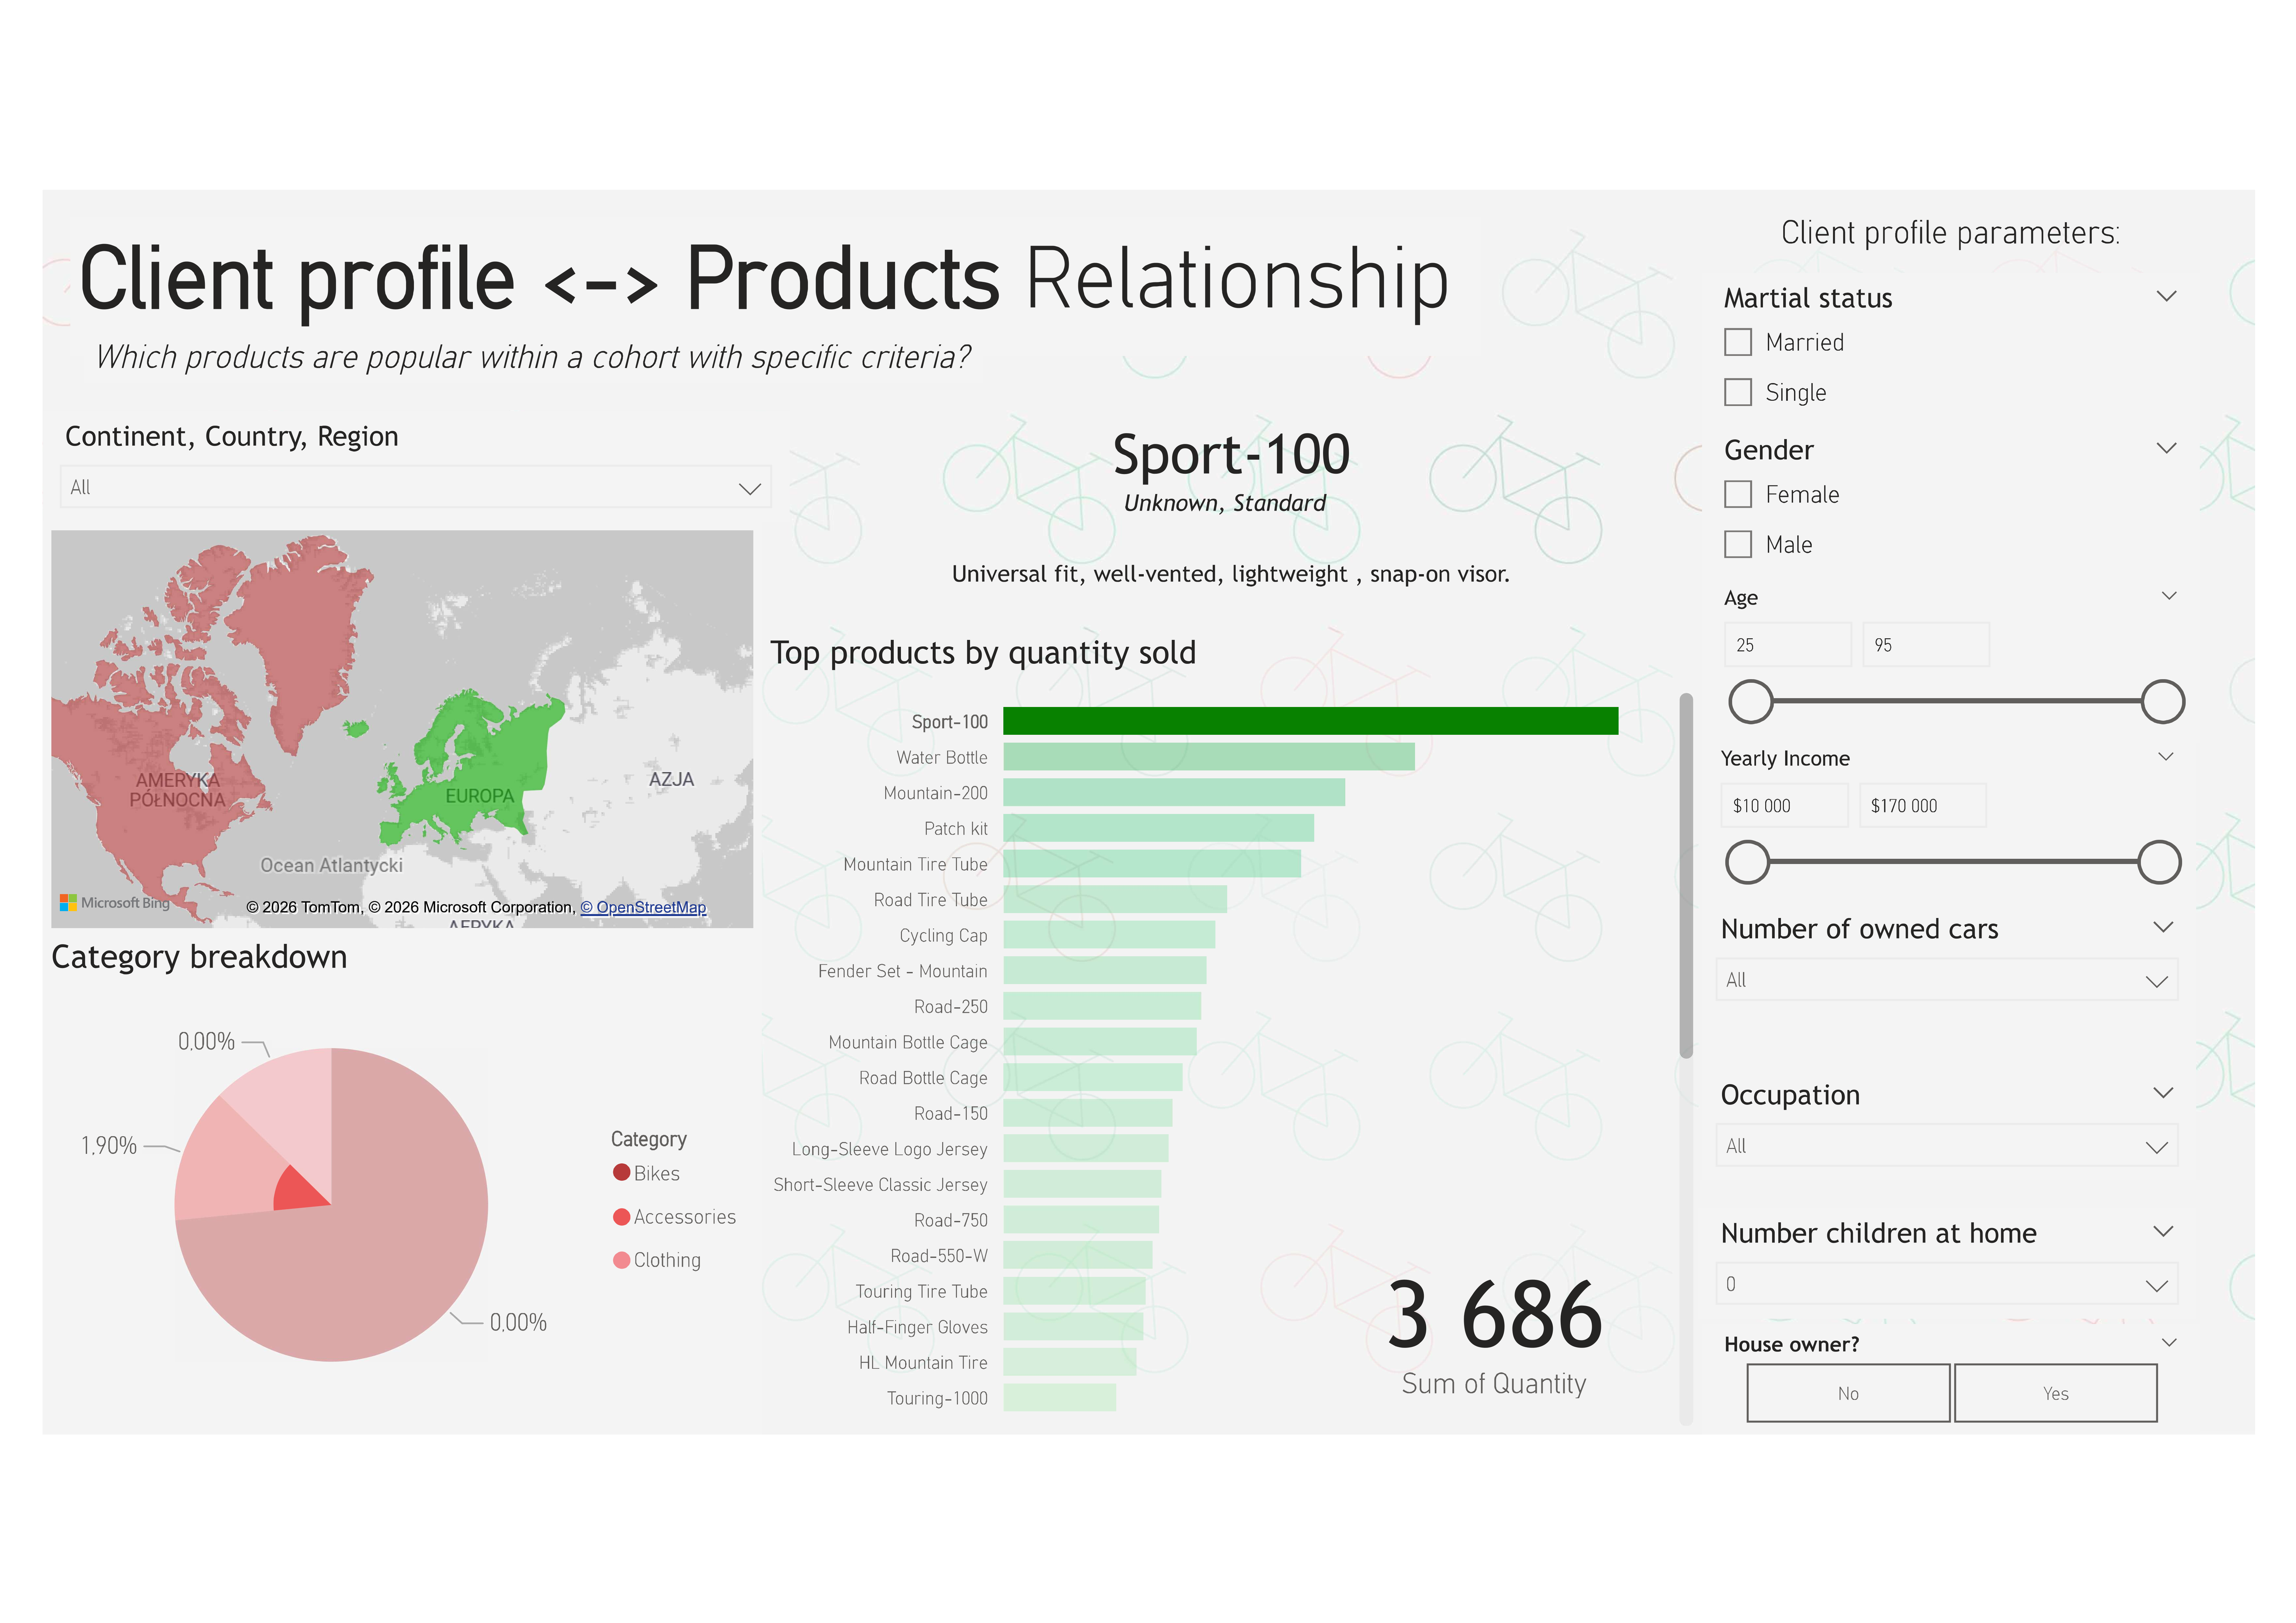

This screenshot's page, from the dashboard's own definition file:
{"tool":"powerbi","page":{"name":"Page 1","canvas":[1280,720],"ordinal":1},"visuals":[{"type":"slicer","fields":{"Values":["Customers.Gender"]},"box":[960,136,288,96],"z":0},{"type":"slicer","fields":{"Values":["Customers.HouseOwnerFlag"]},"box":[960,656,288,64],"z":1000},{"type":"slicer","fields":{"Values":["Customers.MaritalStatus"]},"box":[960,48,288,96],"z":2000},{"type":"slicer","fields":{"Values":["Customers.NumberCarsOwned"]},"box":[958.1,413.2,288,96],"z":3000},{"type":"slicer","fields":{"Values":["Customers.Occupation"]},"box":[958.1,509.2,288,64],"z":4000},{"type":"filledMap","fields":{"Category":["dimTerritory.Continent","dimTerritory.Country","dimTerritory.Region"],"Series":["Sales.SalesTerritoryKey"]},"box":[0,192,416,240],"z":5000},{"type":"slicer","fields":{"Values":["dimTerritory.Continent","dimTerritory.Country","dimTerritory.Region"]},"box":[0,128,432,64],"z":6000},{"type":"slicer","fields":{"Values":["Customers.YearlyIncome"]},"box":[958.1,317.2,288,96],"z":7000},{"type":"card","fields":{"Values":["Customers.Card_Class_and_ProductLine"]},"box":[456,168,456,24],"z":8000},{"type":"textbox","box":[16,16,816,80],"z":9000},{"type":"textbox","box":[944,8,320,40],"z":10000},{"type":"barChart","title":"Top products by quantity sold","fields":{"Category":["dimProducts.ModelName"],"Y":["Sum(Sales.Quantity)"]},"box":[416,256,544,464],"z":11000},{"type":"card","fields":{"Values":["Customers.Card_Description"]},"box":[464,192,448,64],"z":12000},{"type":"card","fields":{"Values":["Customers.Card_ModelName"]},"box":[464,128,448,48],"z":13000},{"type":"slicer","fields":{"Values":["Customers.NumberChildrenAtHome"]},"box":[958.1,589.2,288,64],"z":14000},{"type":"slicer","fields":{"Values":["Customers.Age"]},"box":[960,224,288,96],"z":15000},{"type":"card","fields":{"Values":["Sum(Sales.Quantity)"]},"box":[736,608,208,96],"z":16000},{"type":"textbox","box":[24,80,520,32],"z":18000},{"type":"pieChart","title":"Category breakdown","fields":{"Category":["dimProductSubCategory.Category","dimProductSubCategory.Subcategory"],"Y":["Customers.Product_Key_Used"]},"box":[0,432,416,288],"z":19000}]}

Visuals, with their boxes on the page's 1280x720 design canvas (x1, y1, x2, y2). These are canvas units, not pixel positions in the 2296x1623 screenshot, which may show the page scaled, cropped or inside an application window:
slicer - Customers.Gender: 960:136:1248:232
slicer - Customers.HouseOwnerFlag: 960:656:1248:720
slicer - Customers.MaritalStatus: 960:48:1248:144
slicer - Customers.NumberCarsOwned: 958:413:1246:509
slicer - Customers.Occupation: 958:509:1246:573
filledMap - dimTerritory.Continent x dimTerritory.Country: 0:192:416:432
slicer - dimTerritory.Continent x dimTerritory.Country: 0:128:432:192
slicer - Customers.YearlyIncome: 958:317:1246:413
card - Customers.Card_Class_and_ProductLine: 456:168:912:192
textbox: 16:16:832:96
textbox: 944:8:1264:48
"Top products by quantity sold" barChart: 416:256:960:720
card - Customers.Card_Description: 464:192:912:256
card - Customers.Card_ModelName: 464:128:912:176
slicer - Customers.NumberChildrenAtHome: 958:589:1246:653
slicer - Customers.Age: 960:224:1248:320
card - Sum(Sales.Quantity): 736:608:944:704
textbox: 24:80:544:112
"Category breakdown" pieChart: 0:432:416:720
